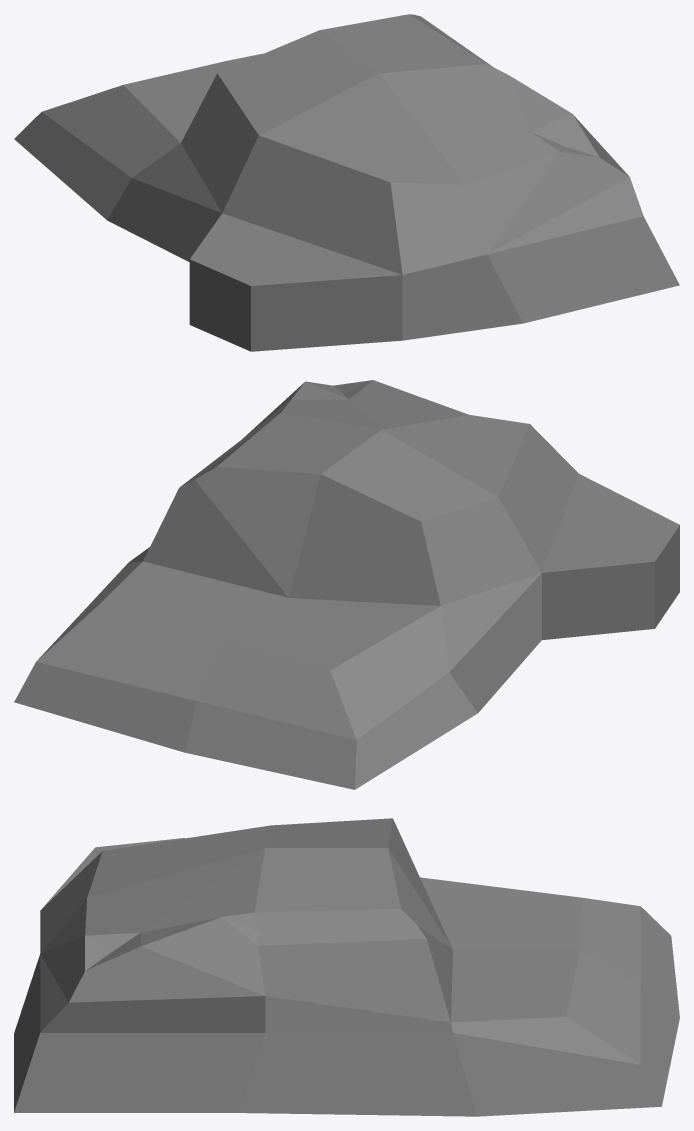
Rendered from Mesh_Rock3.fbx.
3 renders of one model, top to bottom at view 1: azimuth 30°, elevation 25°; view 2: azimuth 150°, elevation 25°; view 3: azimuth 270°, elevation 25°, orthographic. The views are drawn at different scales.
Parts seen in each view (by area): view 1: Mesh_Rock4; view 2: Mesh_Rock4; view 3: Mesh_Rock4.
Boxes of the visible parts, left/top/right/bottom form: Mesh_Rock4: left=14, top=14, right=679, bottom=351; Mesh_Rock4: left=14, top=380, right=679, bottom=789; Mesh_Rock4: left=14, top=818, right=679, bottom=1116.
Size of the model in its own units: 1.33 by 0.5105 by 1.77.
1 material, 1 textured.
